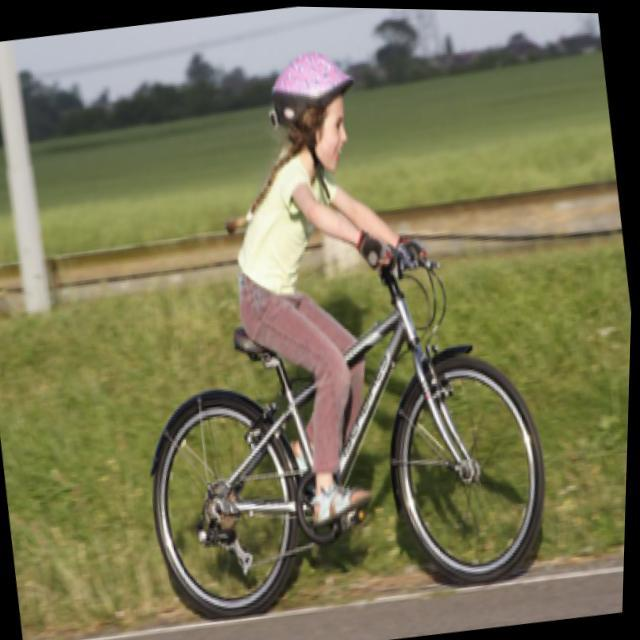Helmet: (262, 49, 363, 179)
